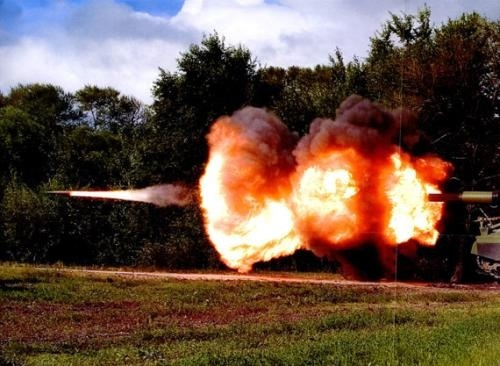fire: (194, 115, 452, 269), (66, 183, 182, 207)
